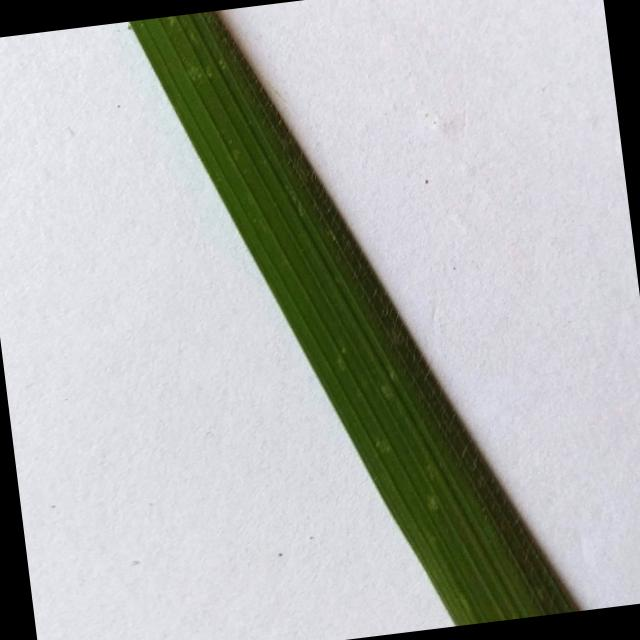Rice_Healthy: (130, 11, 579, 625)
